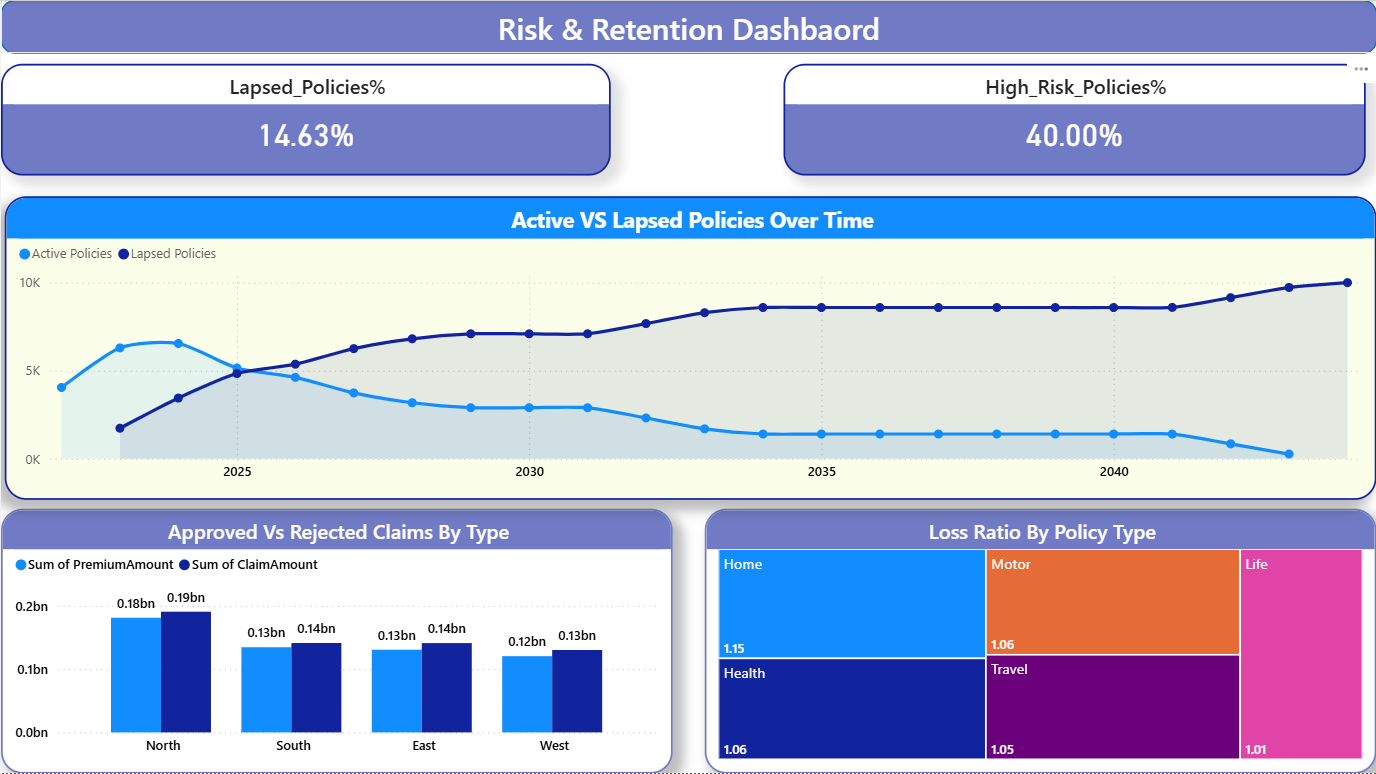

What the dashboard file says about the page in this screenshot:
{"tool":"powerbi","page":{"name":"Risk & Retention Dashbaord ","canvas":[1280,720],"ordinal":3},"visuals":[{"type":"clusteredColumnChart","title":"Approved Vs  Rejected Claims By Type ","fields":{"Category":["Dim_Agent.Region"],"Y":["Sum(Fact_Premiums.PremiumAmount)","Sum(Fact_Claims.ClaimAmount)"]},"box":[0,473.8,625,246.2],"z":0},{"type":"treemap","title":"Loss Ratio By Policy Type ","fields":{"Group":["Dim_Policy.PolicyType"],"Values":["Fact_Claims.Loss Ratio"]},"box":[655,473.8,625,246.2],"z":1000},{"type":"card","title":"Lapsed_Policies%","fields":{"Values":["Fact_Policies.Lapsed_Ploicies%"]},"box":[0,58.8,567.5,103.8],"z":2000},{"type":"lineChart","title":"Active VS Lapsed Policies Over Time","fields":{"Y":["Fact_Policies.Active_policies_OverTime","Fact_Policies.Lapsed Policies"],"Category":["Calender.Date.Variation.Date Hierarchy.Year"]},"box":[3.8,182.5,1276.2,282.5],"z":3000},{"type":"card","title":"High_Risk_Policies%","fields":{"Values":["Fact_Policies.High Risk Policy %"]},"box":[727.5,58.8,541.2,103.8],"z":4000},{"type":"shape","title":"Agent Perfomance ","box":[0,0,1280,50],"z":5000}]}

Visuals, with their boxes in screenshot pixels (x1, y1, x2, y2), scaled from the page's 1280x720 canvas onto the 1376x774 screenshot:
"Approved Vs  Rejected Claims By Type " clusteredColumnChart: 0:509:672:773
"Loss Ratio By Policy Type " treemap: 704:509:1375:773
"Lapsed_Policies%" card: 0:63:610:175
"Active VS Lapsed Policies Over Time" lineChart: 4:196:1375:500
"High_Risk_Policies%" card: 782:63:1364:175
"Agent Perfomance " shape: 0:0:1375:54
